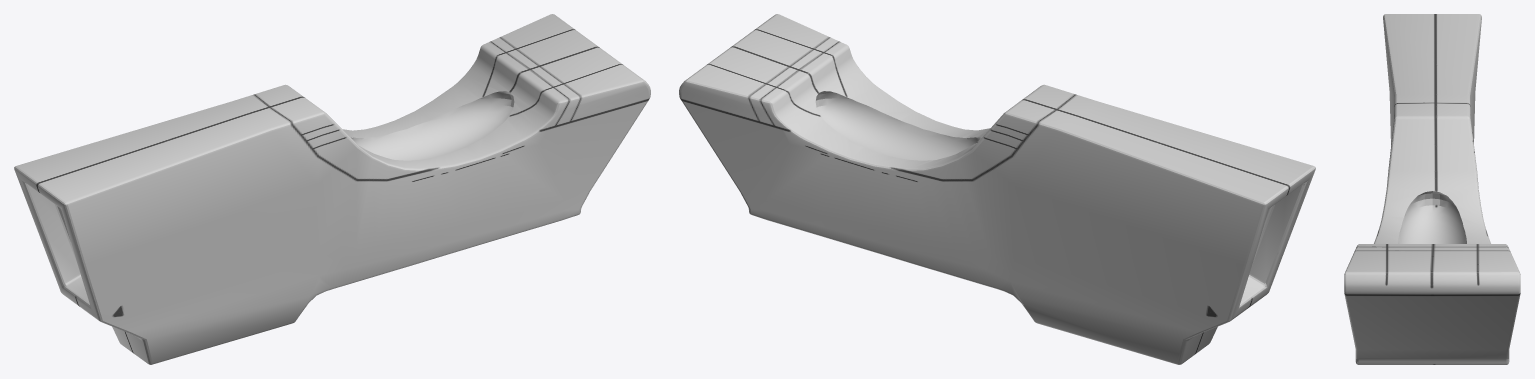
The picture shows the model from 3 angles, left to right: view 1: azimuth 30°, elevation 25°; view 2: azimuth 150°, elevation 25°; view 3: azimuth 270°, elevation 25°; orthographic projection. The views are drawn at different scales.
Visible parts, largest first — view 1: 球体.018; view 2: 球体.018; view 3: 球体.018.
Part boxes in pixels (bbox=[...]): 球体.018: bbox=[14, 14, 650, 364]; 球体.018: bbox=[679, 14, 1315, 364]; 球体.018: bbox=[1344, 14, 1520, 364].
Bounding box in the file's own units: 240 × 87.22 × 67.71.
